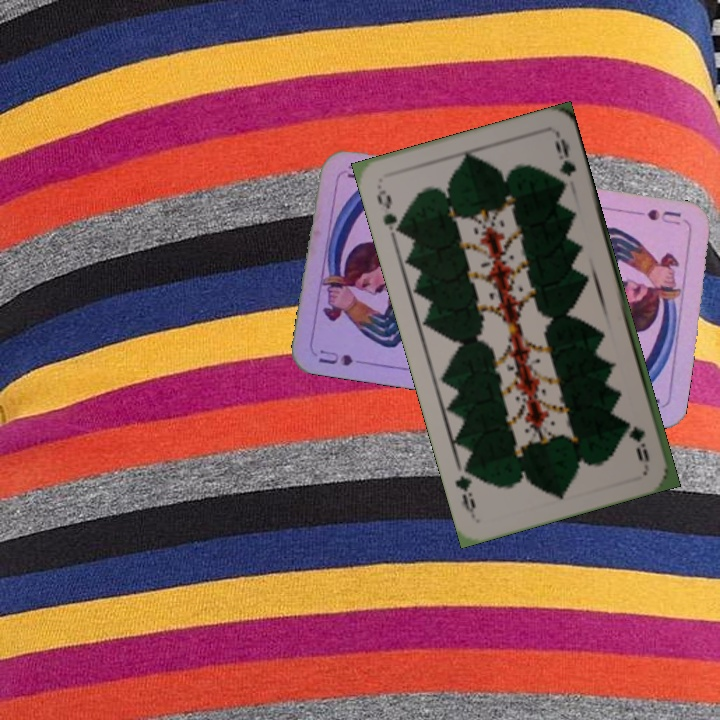G9: (372, 185, 406, 239), (628, 421, 652, 465)
SU: (630, 205, 689, 228), (314, 346, 355, 369)
